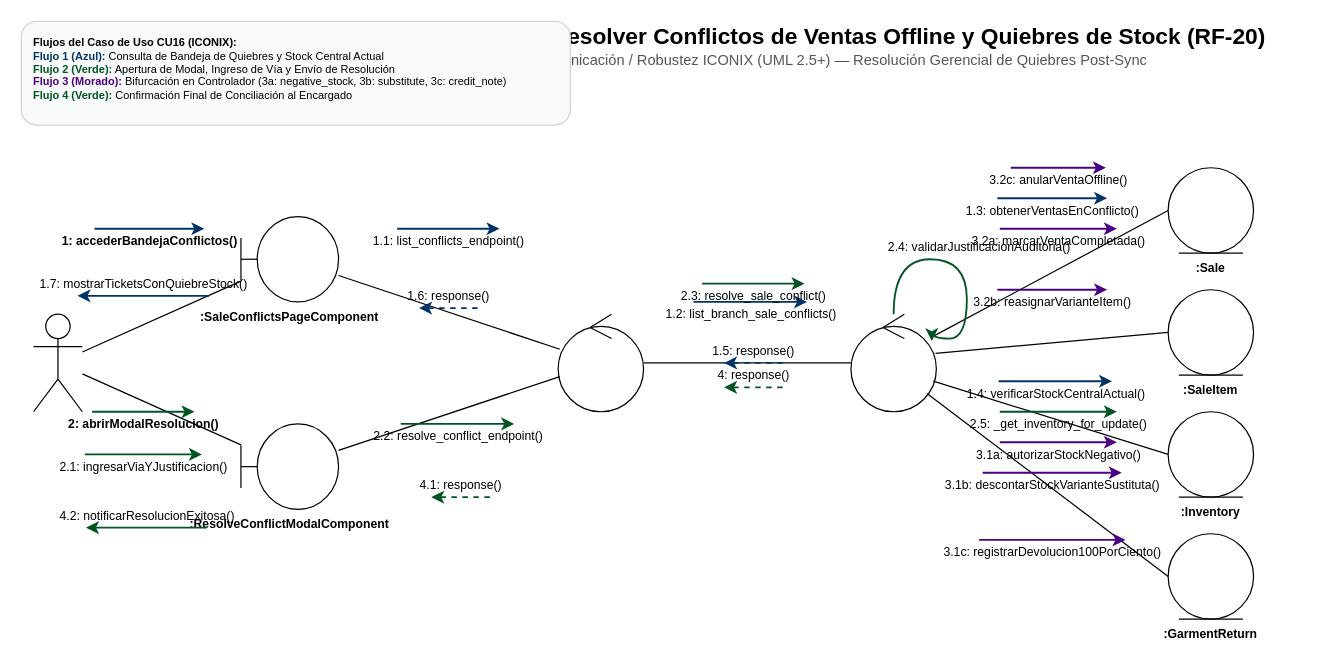
This 1336x664 diagram has some shape labels left out. Each missing label, with the centre of its shape:
":Encargado" belongs at point 57,362.
":SaleConflictRoutes" belongs at point 600,362.
":SaleConflictService" belongs at point 893,362.
